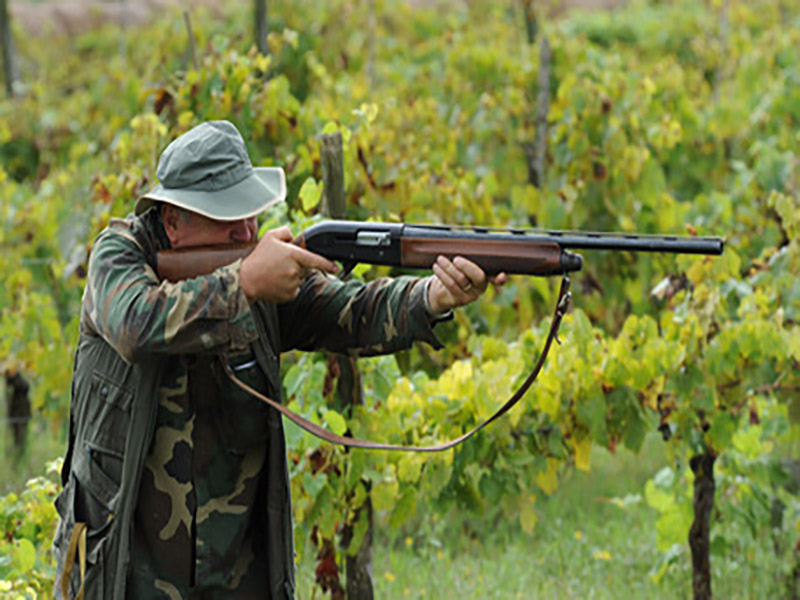cacciatore: (77, 125, 486, 598)
fucile: (145, 205, 709, 280)
